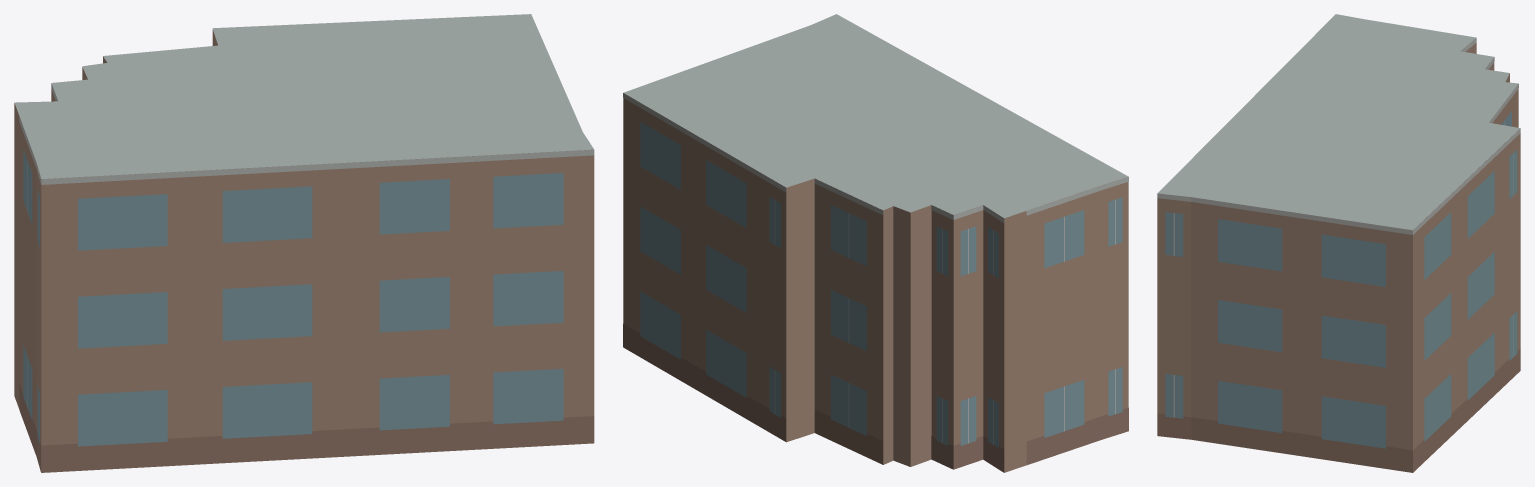
File: survey-upis-32474324.glb
3 renders of one model, left to right at view 1: azimuth 30°, elevation 25°; view 2: azimuth 150°, elevation 25°; view 3: azimuth 270°, elevation 25°, orthographic. The views are drawn at different scales.
Parts seen in each view (by area): view 1: survey-upis-32474324.tmp; view 2: survey-upis-32474324.tmp; view 3: survey-upis-32474324.tmp.
Part boxes in pixels (x1,y1,x2,y2): survey-upis-32474324.tmp: [14, 14, 594, 472]; survey-upis-32474324.tmp: [623, 14, 1128, 472]; survey-upis-32474324.tmp: [1157, 14, 1520, 472].
Size of the model in its own units: 23.62 by 12.35 by 16.77.
